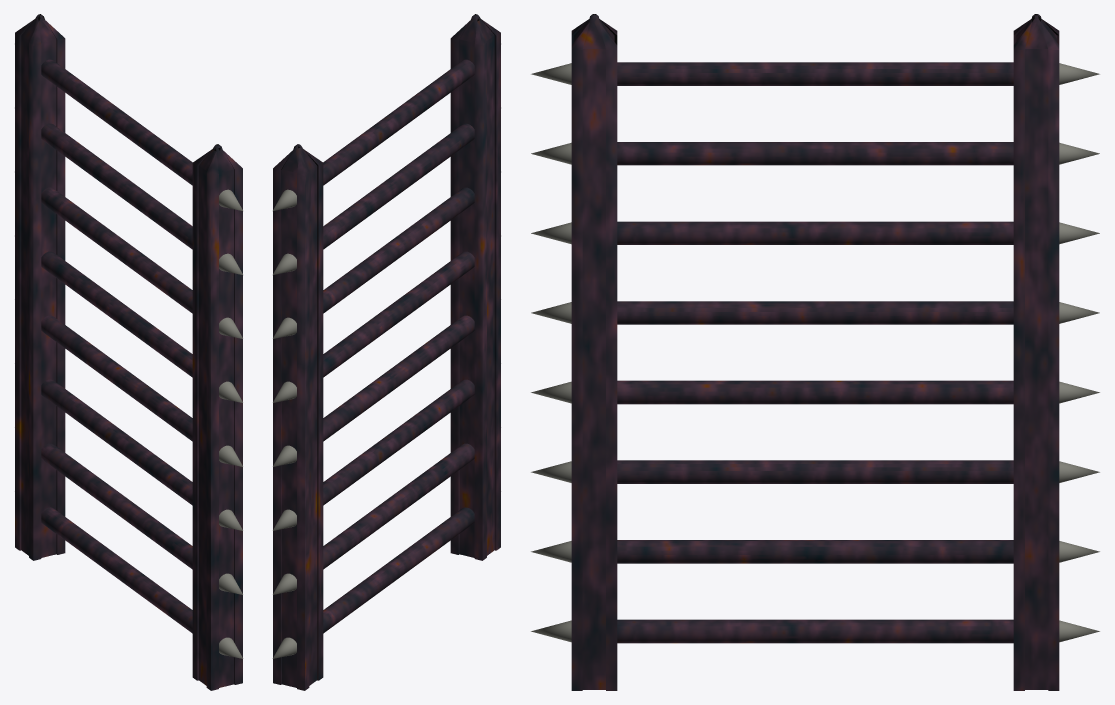
File: CA_016_iron_ladder_var1.glb
3 renders of one model, left to right at view 1: azimuth 30°, elevation 25°; view 2: azimuth 150°, elevation 25°; view 3: azimuth 270°, elevation 25°, orthographic. The views are drawn at different scales.
Visible parts, largest first — view 1: ladder_support, ladder_bars, spikes; view 2: ladder_support, ladder_bars, spikes; view 3: ladder_bars, ladder_support, spikes.
Boxes of the visible parts, x1,y1,x2,y2 form: ladder_support: [15, 14, 242, 690]; ladder_bars: [41, 59, 192, 633]; spikes: [219, 189, 243, 658]; ladder_support: [273, 14, 500, 690]; ladder_bars: [323, 59, 474, 633]; spikes: [272, 189, 296, 658]; ladder_bars: [617, 62, 1013, 643]; ladder_support: [571, 14, 1059, 690]; spikes: [531, 63, 1099, 642].
Size of the model in its own units: 0.18 by 2.91 by 2.25.
2 materials, 1 textured.
